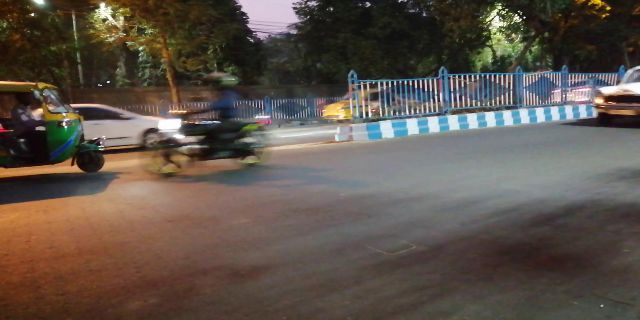Autorickshaw: (3, 78, 105, 178)
Car: (596, 62, 639, 118)
Motorbike: (144, 77, 272, 168)
